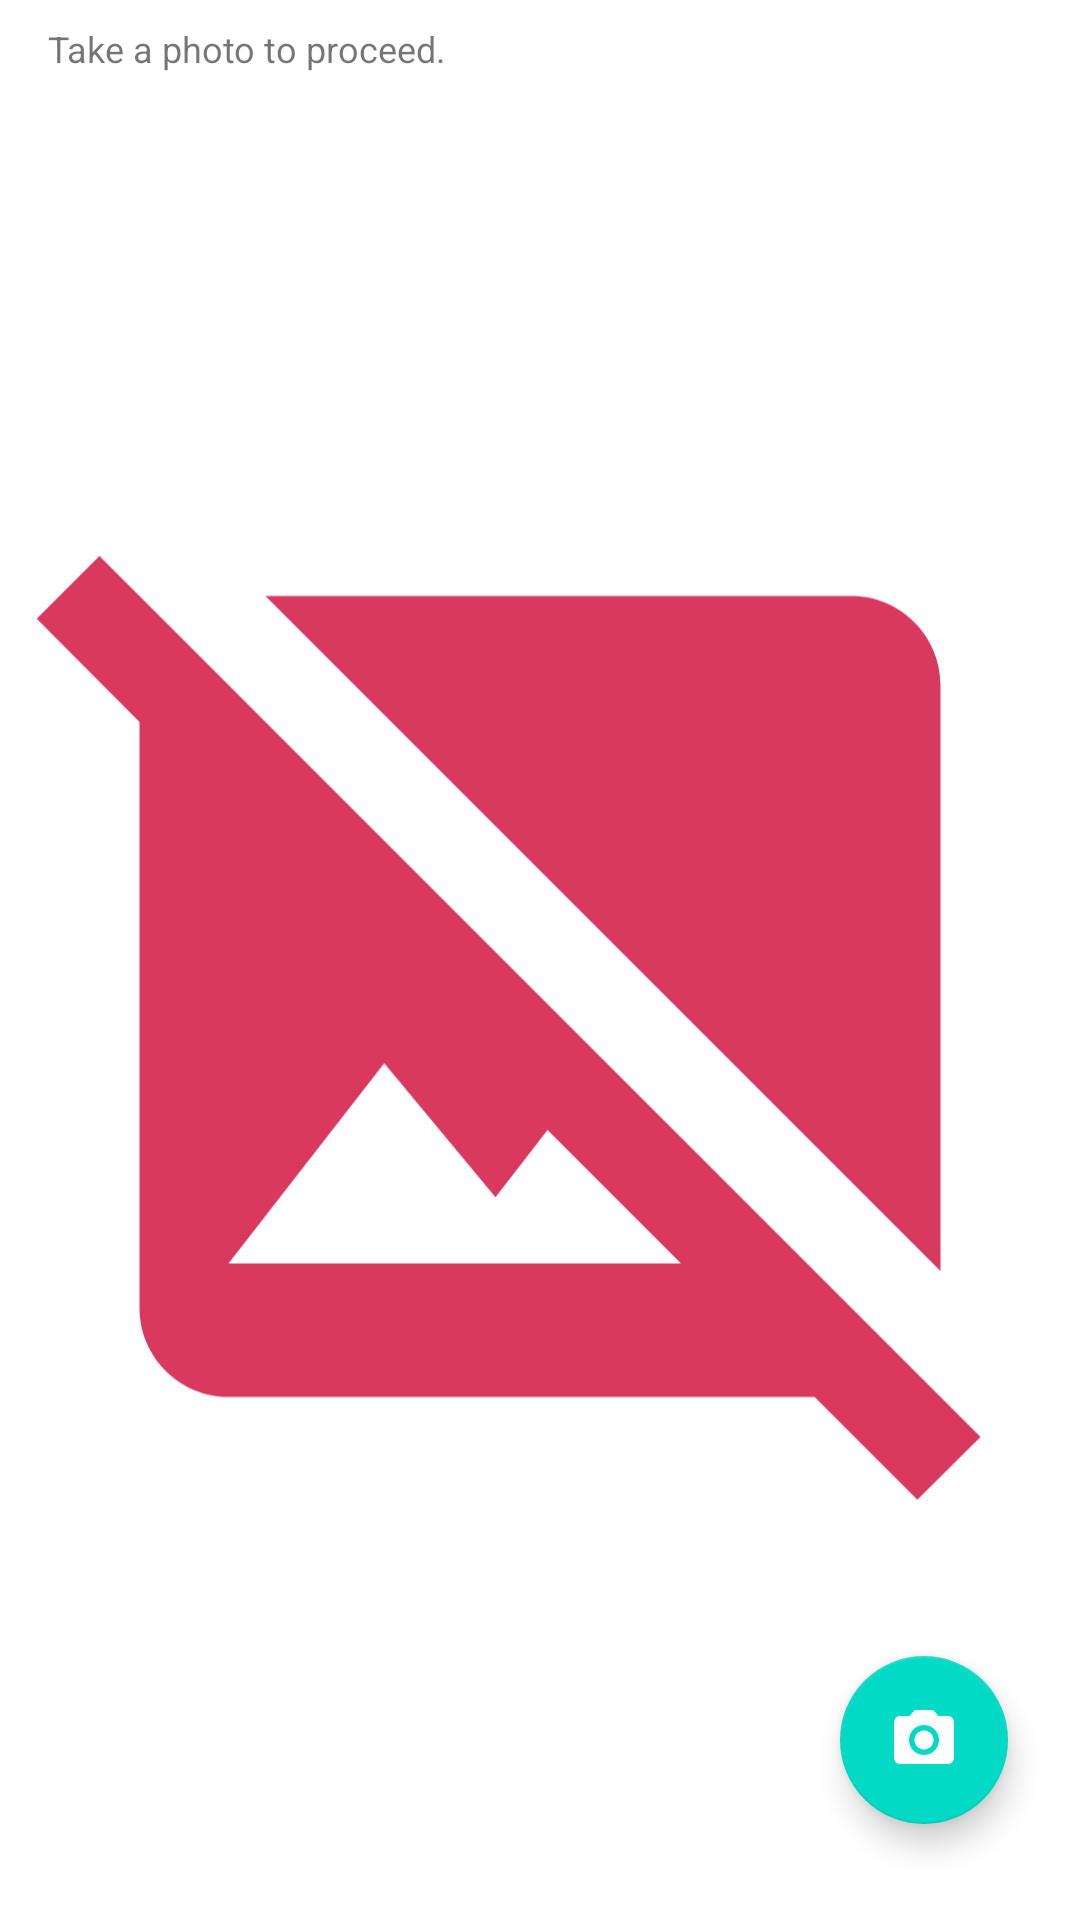

Locate icon controls on the screen. Image size 1080 × 1920, boxes as (x1, y1, x2, y2).
Take photo: (840, 1656, 1008, 1824)
